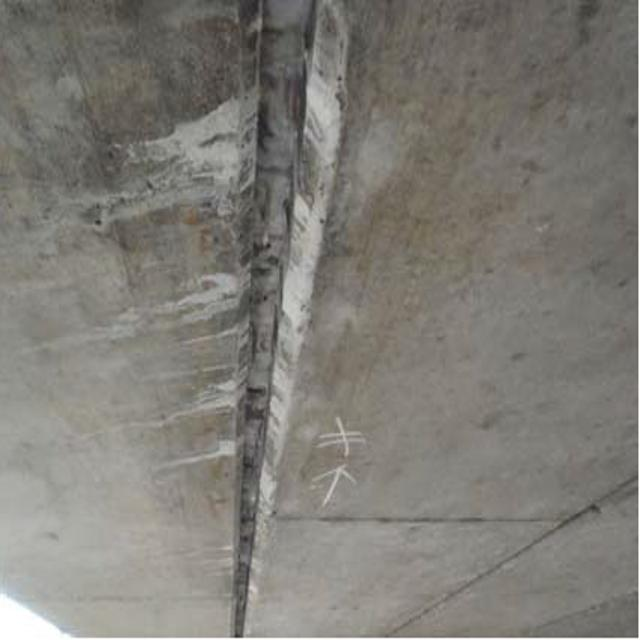freelime: (144, 30, 349, 500)
